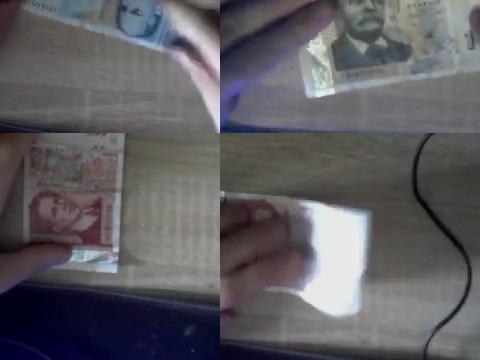20leva: (26, 0, 173, 51)
5leva: (220, 193, 373, 317), (0, 133, 127, 273)
